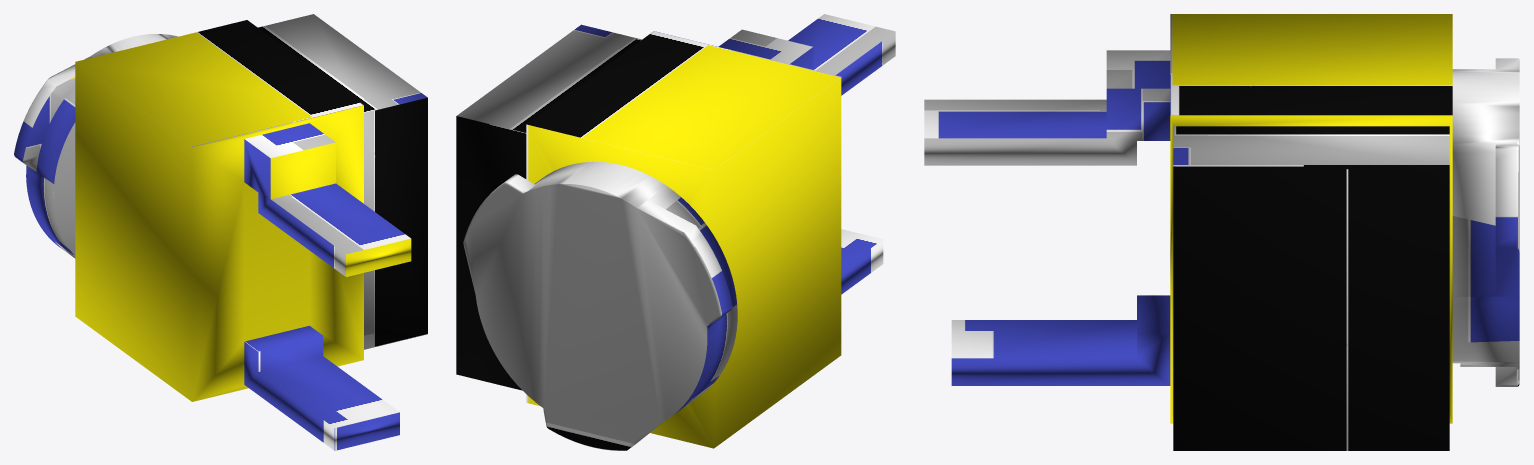
Rendered from hand2.dae.
3 renders of one model, left to right at view 1: azimuth 30°, elevation 25°; view 2: azimuth 150°, elevation 25°; view 3: azimuth 270°, elevation 25°, orthographic. The views are drawn at different scales.
Visible parts, largest first — view 1: transform1; view 2: transform1; view 3: transform1.
Part boxes in pixels (<box>): transform1: <box>14,14,427,450</box>; transform1: <box>456,14,895,450</box>; transform1: <box>924,14,1519,450</box>.
Size of the model in its own units: 125 by 112 by 196.
1 material, 1 textured.
